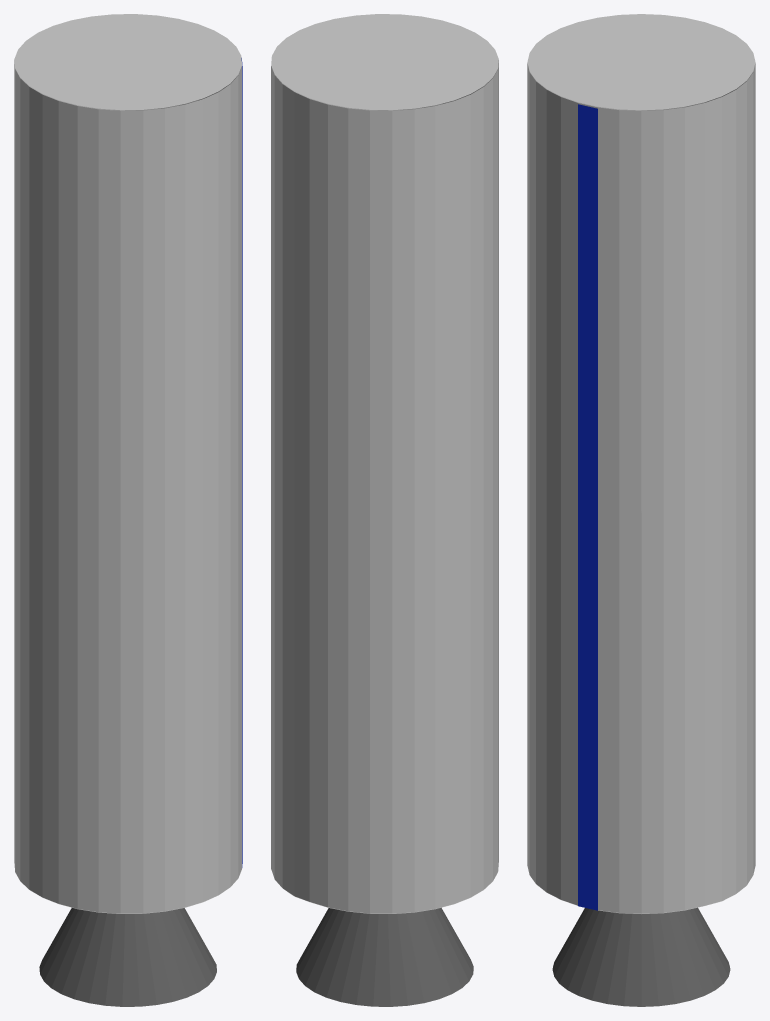
3 views of the same model, side by side, from view 1: azimuth 30°, elevation 25°; view 2: azimuth 150°, elevation 25°; view 3: azimuth 270°, elevation 25° (orthographic).
Parts seen in each view (by area): view 1: RocketBody, RocketBodyTop_RocketBody.003, Thruster_RocketBody.001, RocketBodyStripe_RocketBody.004; view 2: RocketBody, RocketBodyTop_RocketBody.003, Thruster_RocketBody.001; view 3: RocketBody, RocketBodyTop_RocketBody.003, RocketBodyStripe_RocketBody.004, Thruster_RocketBody.001.
Part boxes in pixels (x1=…): RocketBody: x1=14, y1=60, x2=241, y2=913; RocketBodyTop_RocketBody.003: x1=14, y1=14, x2=241, y2=110; Thruster_RocketBody.001: x1=39, y1=908, x2=216, y2=1006; RocketBodyStripe_RocketBody.004: x1=241, y1=58, x2=242, y2=867; RocketBody: x1=271, y1=60, x2=498, y2=913; RocketBodyTop_RocketBody.003: x1=271, y1=14, x2=498, y2=110; Thruster_RocketBody.001: x1=296, y1=907, x2=473, y2=1006; RocketBody: x1=527, y1=63, x2=755, y2=913; RocketBodyTop_RocketBody.003: x1=527, y1=14, x2=755, y2=110; RocketBodyStripe_RocketBody.004: x1=578, y1=104, x2=597, y2=910; Thruster_RocketBody.001: x1=552, y1=907, x2=730, y2=1006.
Bounding box in the file's own units: 3.66 × 16.05 × 3.66.
